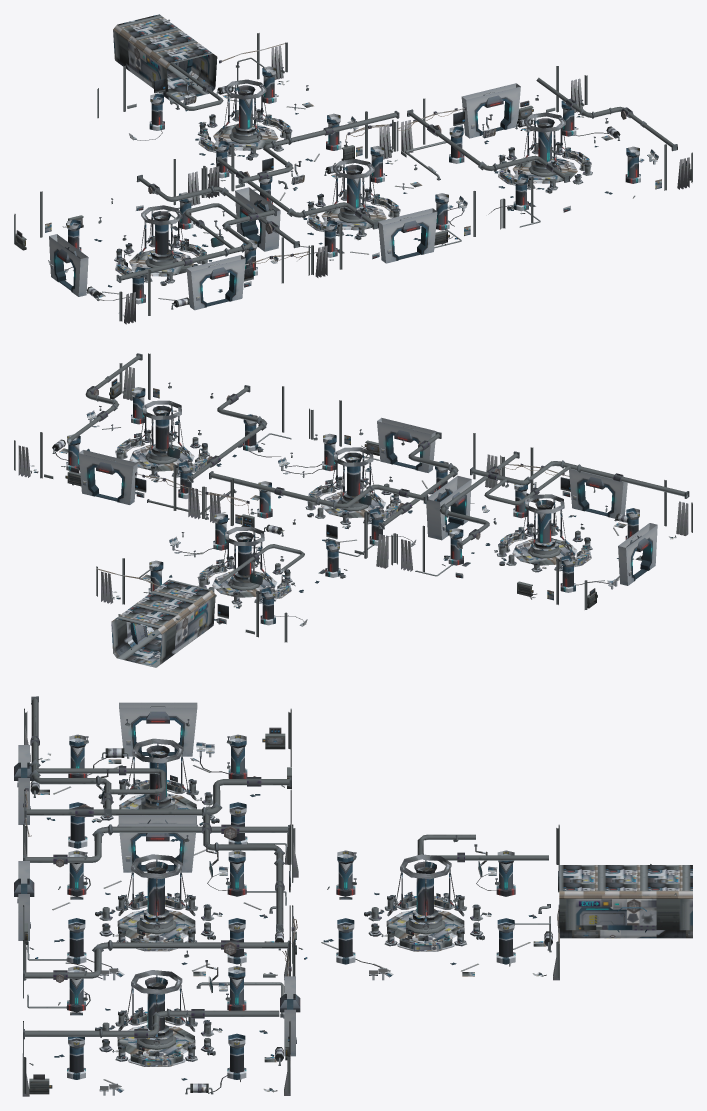
File: Combined_Mesh_root_scene__10_7ad9d44b__ZombiesII_laboratory_04_d_1b2a1172_c1f257_part001.obj
3 renders of one model, top to bottom at view 1: azimuth 30°, elevation 25°; view 2: azimuth 150°, elevation 25°; view 3: azimuth 270°, elevation 25°, orthographic. The views are drawn at different scales.
Size of the model in its own units: 124 by 10.34 by 102.
Materials: 541 (541 with a texture image).
